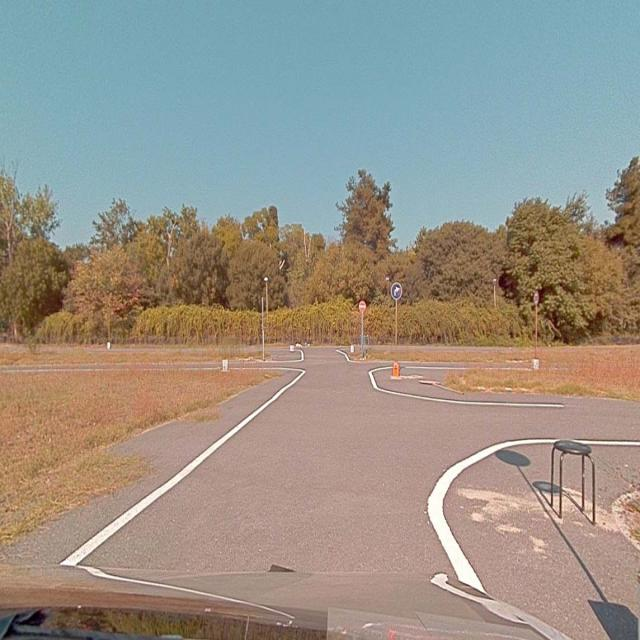girisyok: (359, 300, 365, 312)
sag: (391, 282, 401, 298)
